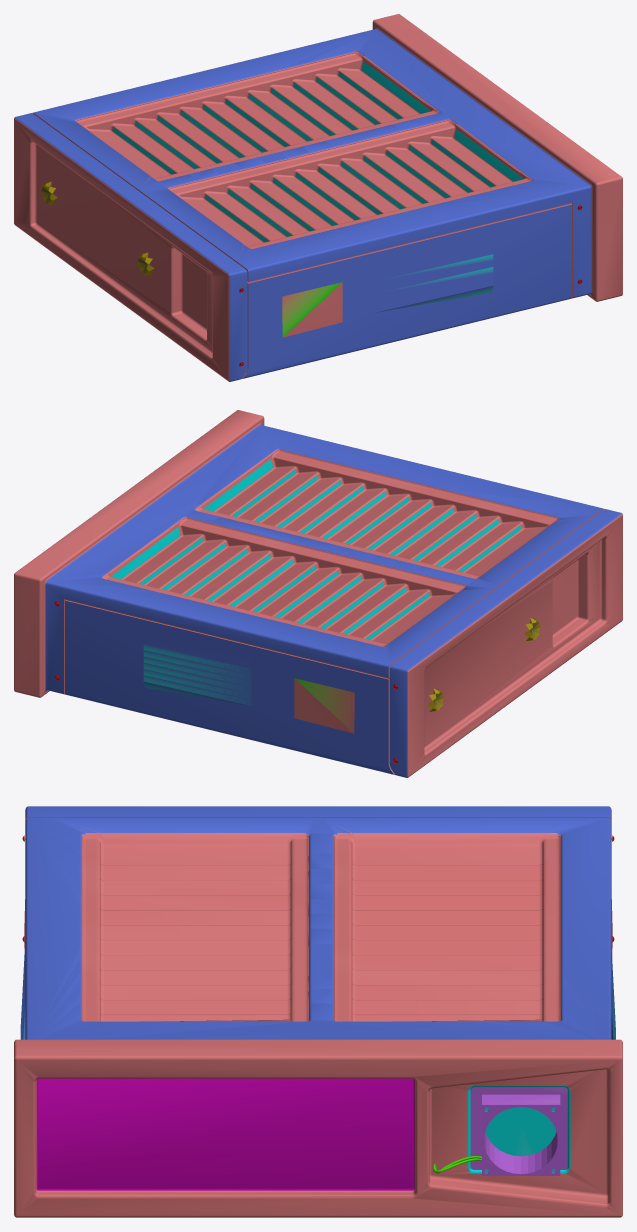
The model's file is MoneyPrinter_LOD2.fbx.
3 views of the same model, one above another, from view 1: azimuth 30°, elevation 25°; view 2: azimuth 150°, elevation 25°; view 3: azimuth 270°, elevation 25° (orthographic). The views are drawn at different scales.
Parts seen in each view (by area): view 1: Fluent_Wire.009; view 2: Fluent_Wire.009; view 3: Fluent_Wire.009.
Boxes of the visible parts, box(x1,y1,x2,y2) form: Fluent_Wire.009: box(14, 14, 622, 381); Fluent_Wire.009: box(14, 410, 622, 777); Fluent_Wire.009: box(14, 806, 622, 1217).
Bounding box in the file's own units: 34.76 × 10.04 × 34.23.
